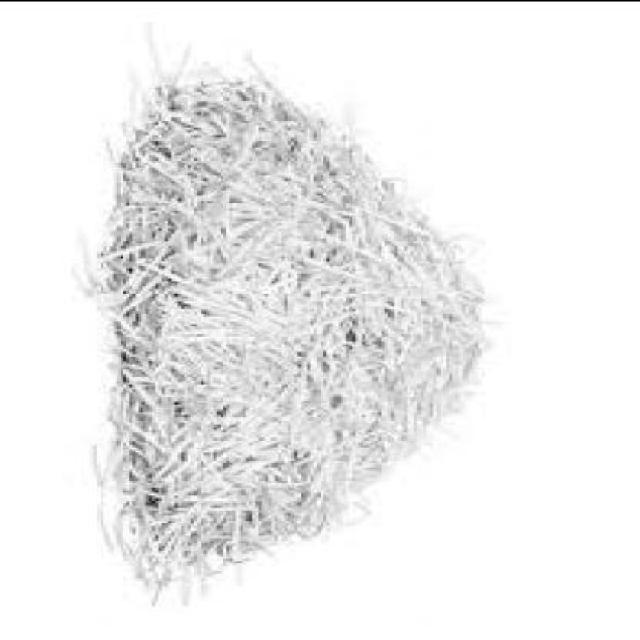PAPER: (98, 63, 500, 605)
